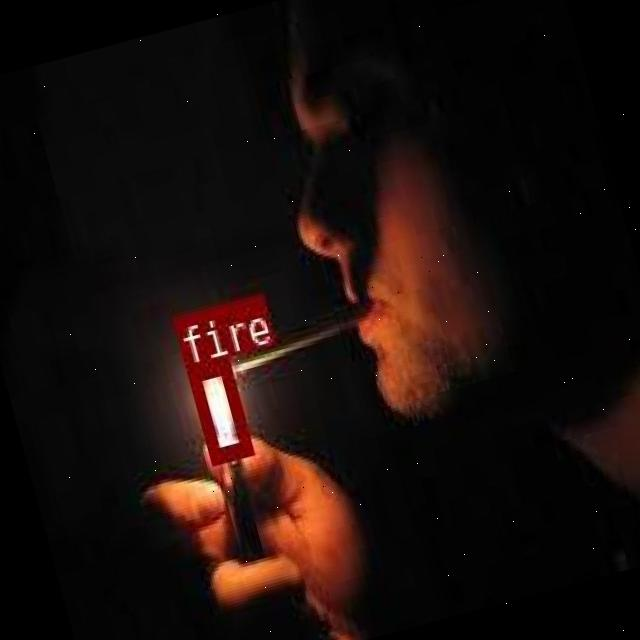fire: (184, 357, 252, 462)
